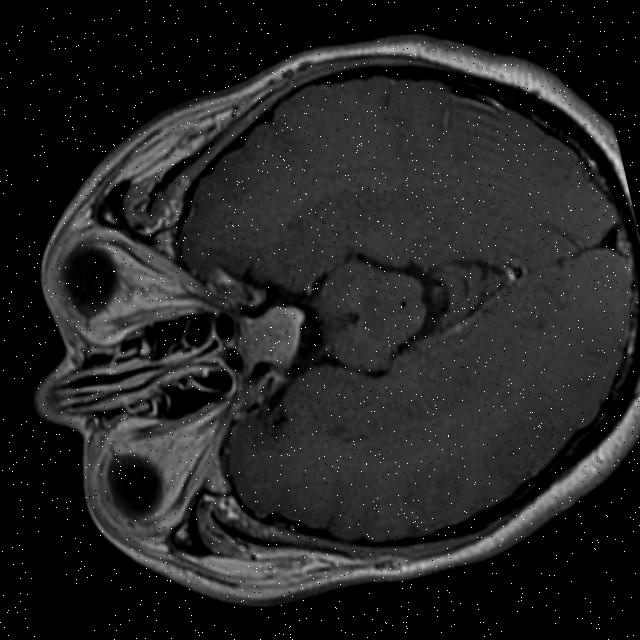Pituitary: (227, 297, 313, 378)
